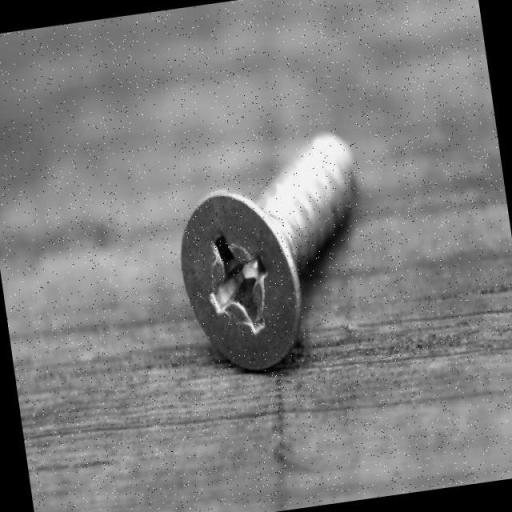Phillips: (173, 186, 300, 377)
